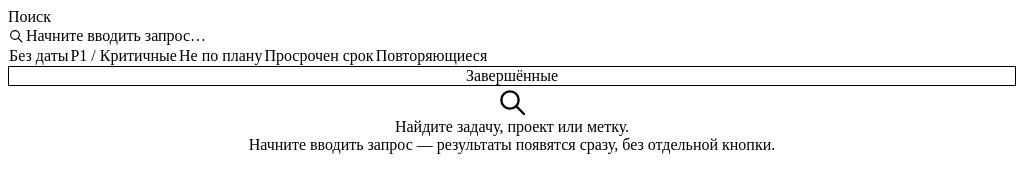
Test case: Search — денормализация project/label задачи (только для проверки, что кандидат собирается) › находит задачу по названию проекта (уровень 5, 01§15)
This screenshot has width=1024, height=171.
Type "Уникальныйпроект" into the field named "Поиск по задачам, проектам и меткам" at (520,36), box 24,26 -> 1016,46
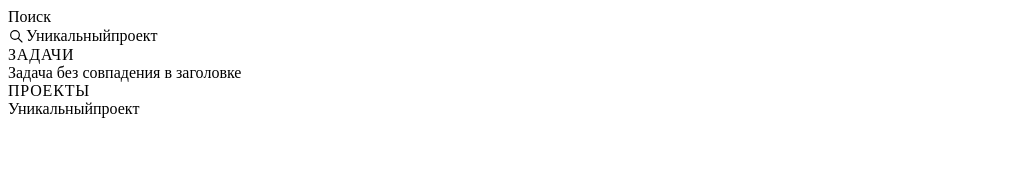
Now the text "Задача без совпадения в заголовке" is shown, box 8,64 -> 241,82
